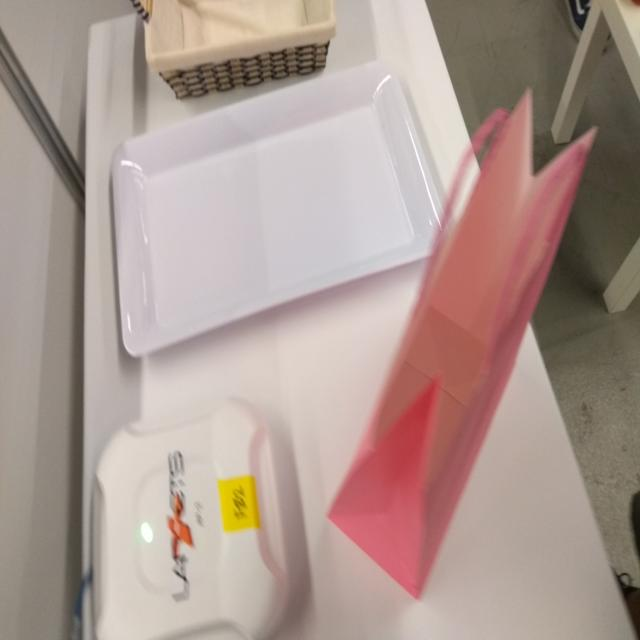help_me_carry_opl: (320, 94, 597, 604)
tray: (109, 61, 452, 352)
